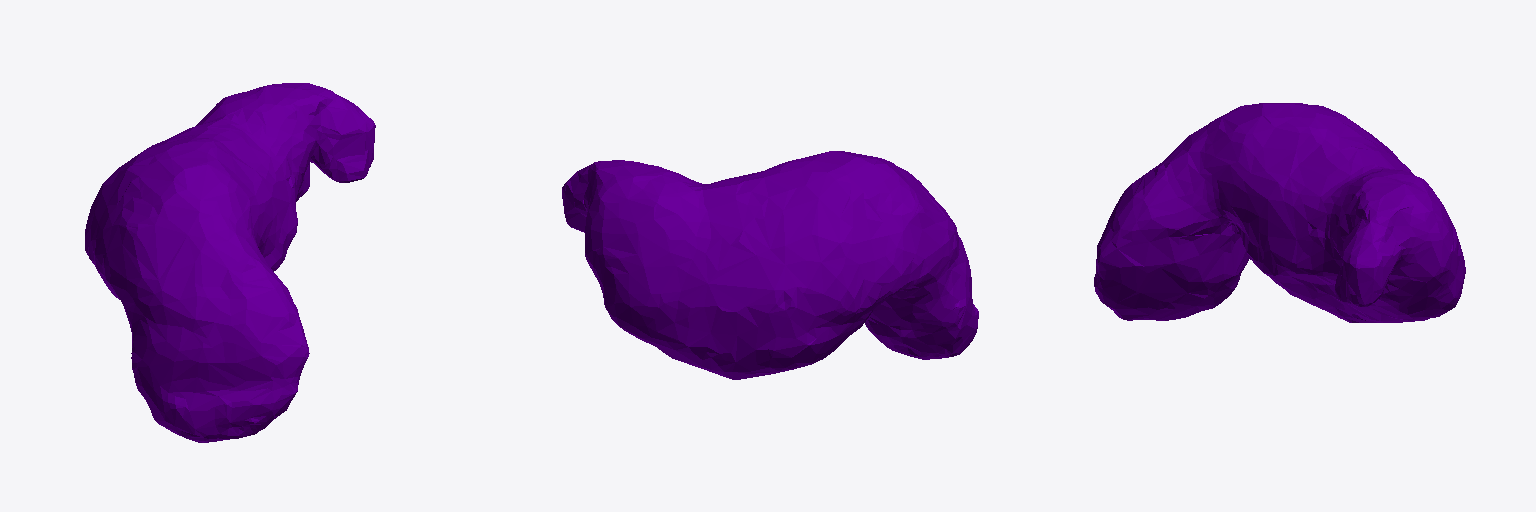
The picture shows the model from 3 angles: view 1: azimuth 30°, elevation 25°; view 2: azimuth 150°, elevation 25°; view 3: azimuth 270°, elevation 25°; orthographic projection.
Visible parts, largest first — view 1: Polygonal_Model_8_Triangles_0; view 2: Polygonal_Model_8_Triangles_0; view 3: Polygonal_Model_8_Triangles_0.
Boxes of the visible parts, <box> form: Polygonal_Model_8_Triangles_0: <box>85,83,375,442</box>; Polygonal_Model_8_Triangles_0: <box>562,151,978,379</box>; Polygonal_Model_8_Triangles_0: <box>1094,103,1465,322</box>.
Size of the model in its own units: 2.79 by 1.91 by 2.84.